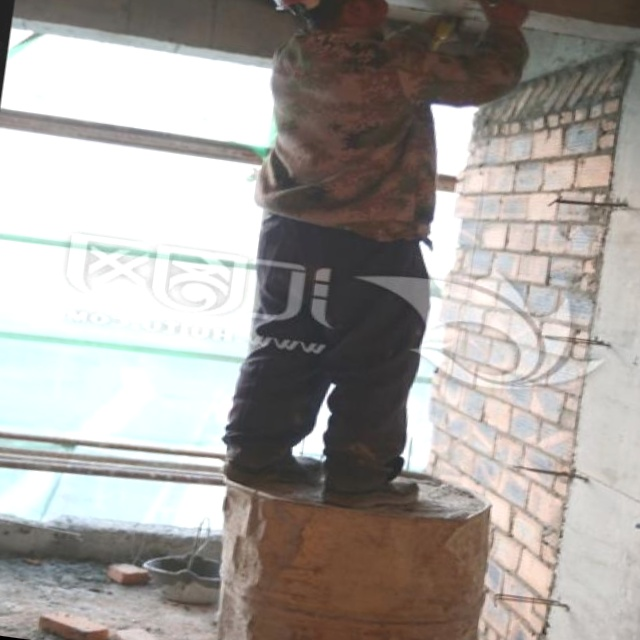Con_Casco: (258, 0, 387, 39)
